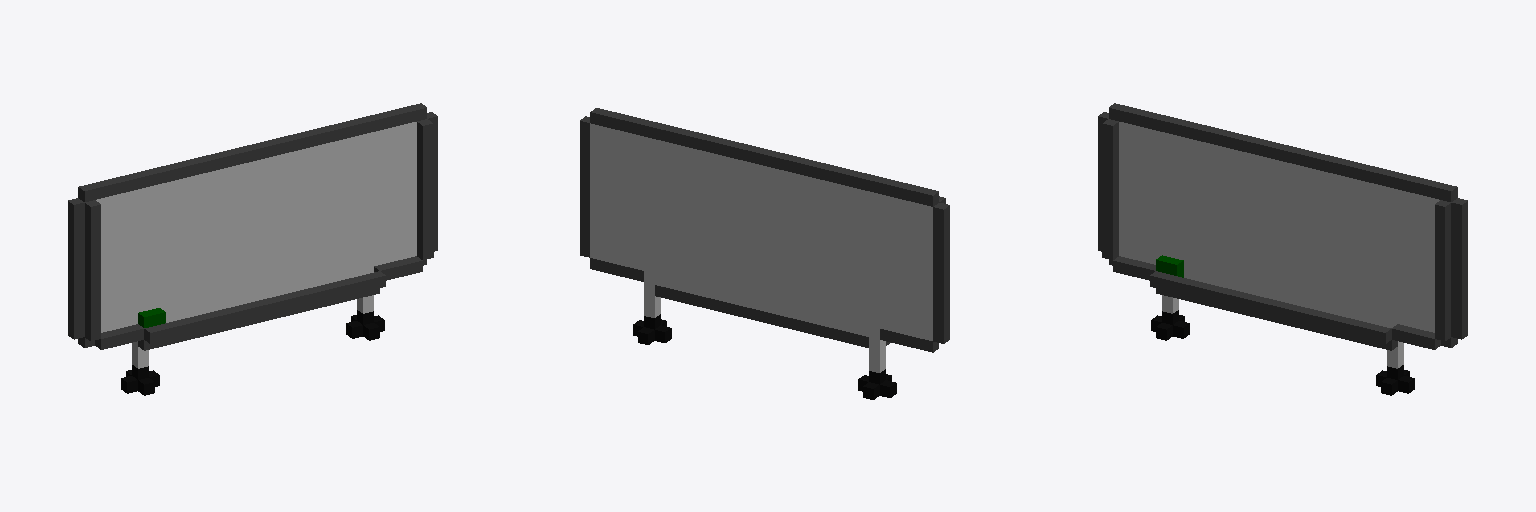
The picture shows the model from 3 angles: view 1: azimuth 30°, elevation 25°; view 2: azimuth 150°, elevation 25°; view 3: azimuth 330°, elevation 25°; orthographic projection.
Parts seen in each view (by area): view 1: whiteBoard_87; view 2: whiteBoard_87; view 3: whiteBoard_87.
Part boxes in pixels (bbox=[...]): whiteBoard_87: bbox=[68, 103, 437, 395]; whiteBoard_87: bbox=[580, 108, 949, 399]; whiteBoard_87: bbox=[1098, 103, 1467, 395].
Size of the model in its own units: 3.4 by 1.9 by 0.4.
Materials: 1 (1 with a texture image).